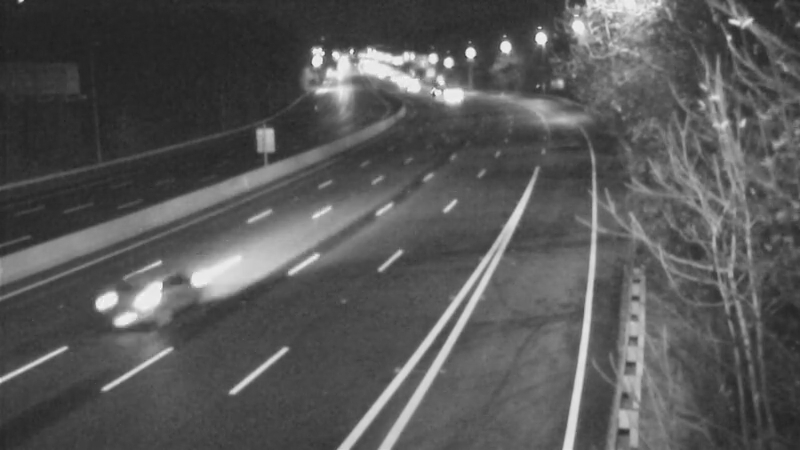vehicle: (71, 247, 181, 357), (417, 59, 467, 109), (387, 60, 437, 110), (427, 69, 477, 119)
